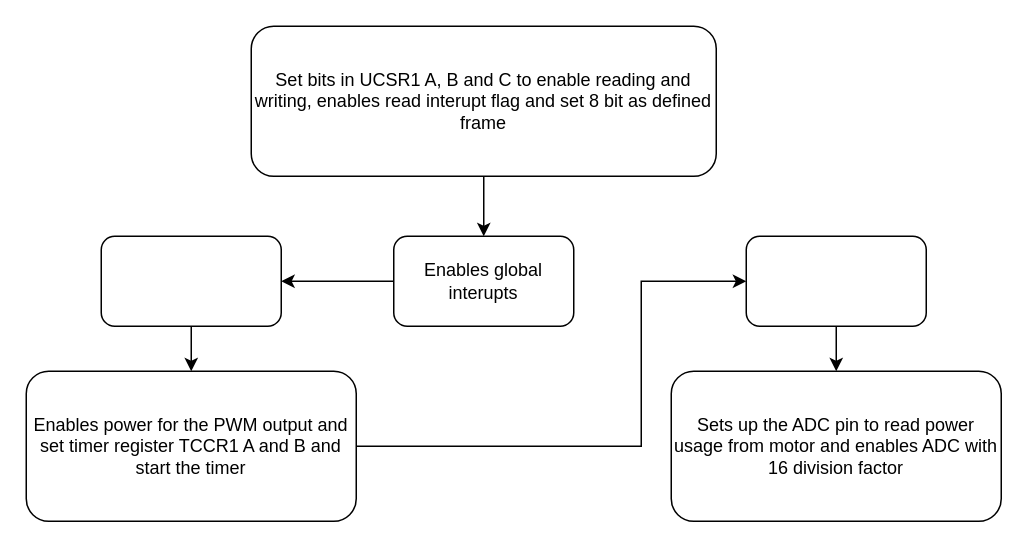
The diagram is 1028 pixels wide and 548 high, and some of its shapes have lost their labels. The box of each missing label's shape, as (x1, y1, x2, y2) in pixels:
Init ADC: (745, 235, 926, 326)
Init PWM: (100, 235, 281, 326)
